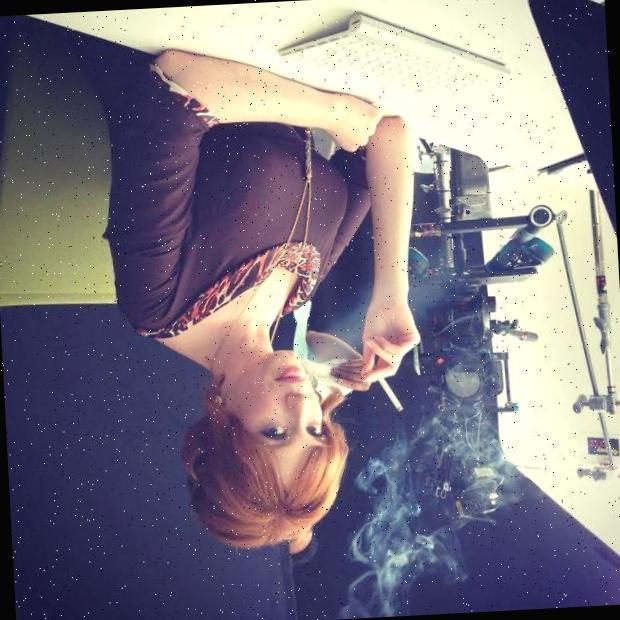smoke: (347, 407, 533, 607)
